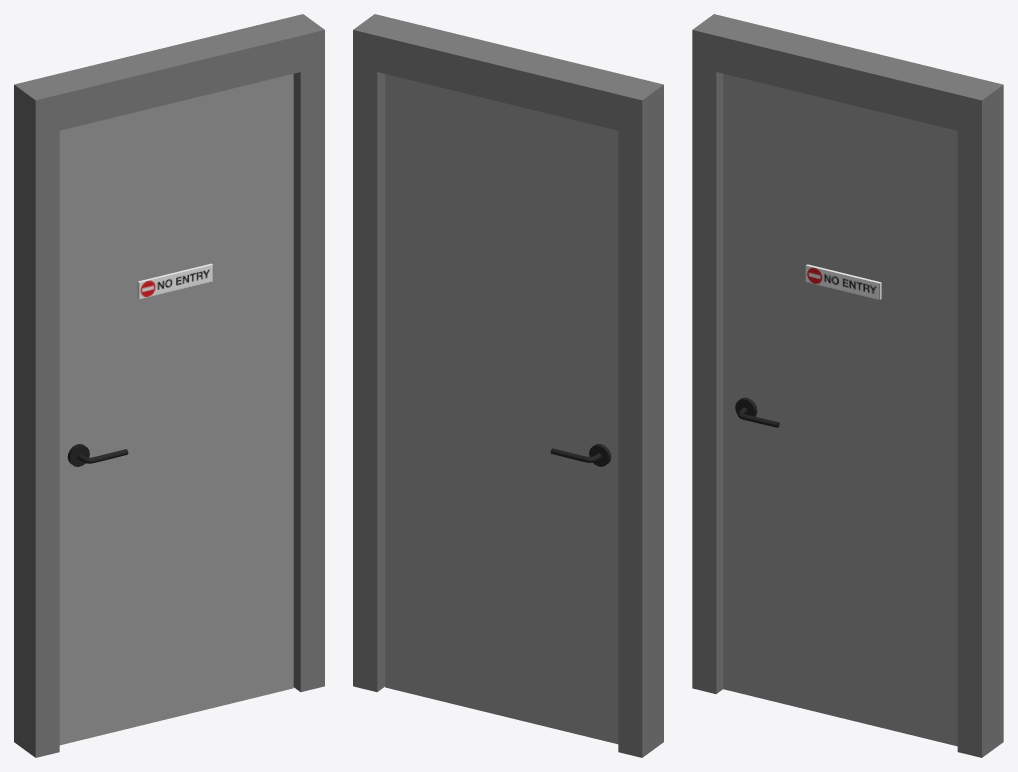
The model's file is Door.FBX.
3 renders of one model, left to right at view 1: azimuth 30°, elevation 25°; view 2: azimuth 150°, elevation 25°; view 3: azimuth 330°, elevation 25°, orthographic.
Visible parts, largest first — view 1: Door, door frame 2; view 2: Door, door frame 2; view 3: Door, door frame 2.
Boxes of the visible parts, bbox=[...] form: Door: bbox=[59, 74, 293, 745]; door frame 2: bbox=[14, 14, 324, 757]; Door: bbox=[385, 74, 618, 744]; door frame 2: bbox=[353, 14, 663, 757]; Door: bbox=[723, 74, 957, 746]; door frame 2: bbox=[692, 14, 1003, 757].
Size of the model in its own units: 97.8 by 213 by 17.04.
Materials: 1 (1 with a texture image).
